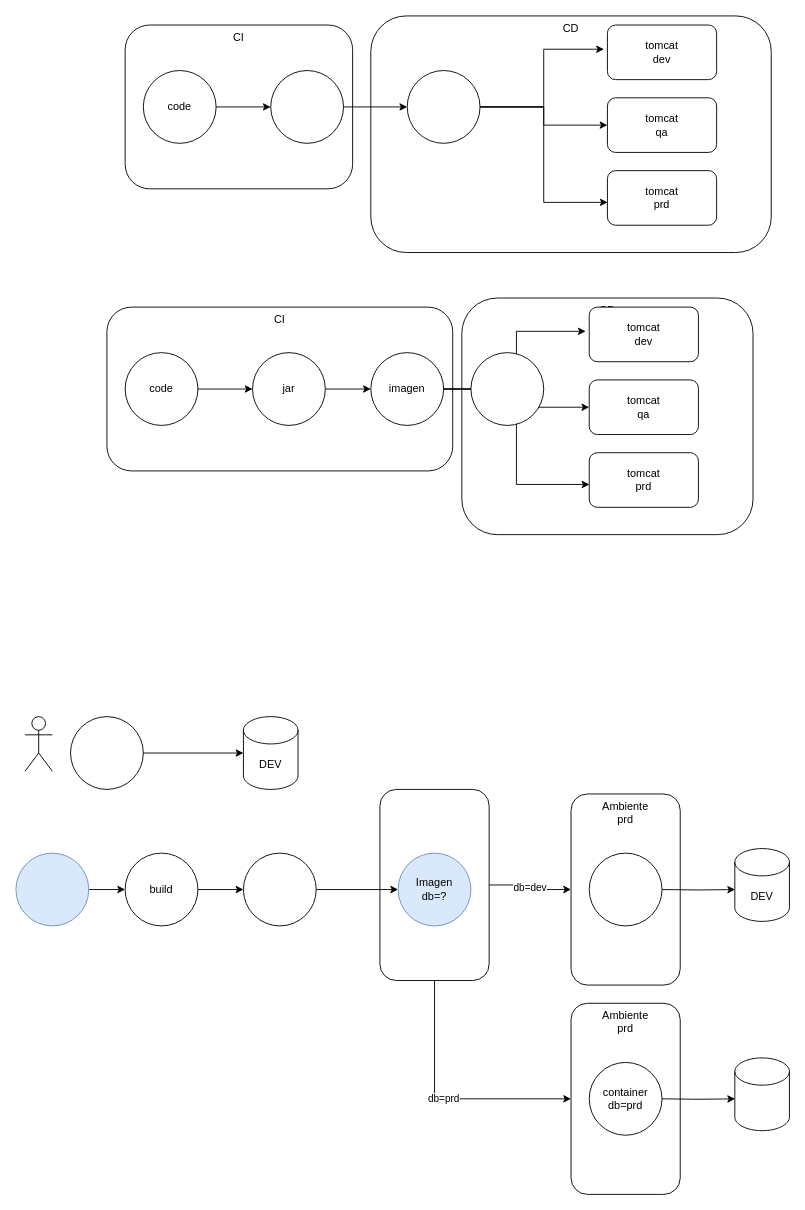
The diagram is 805 pixels wide and 1210 high, and some of its shapes have lost their labels. Here are the shapes that lost their labels. From the top down, the box of each, then its label:
(270, 70, 344, 143): war
(406, 70, 480, 143): Deployment
(470, 352, 544, 425): Deploy
(24, 716, 52, 771): Actor
(70, 716, 143, 789): code db=dev
(15, 852, 89, 926): code db=?
(243, 852, 316, 926): SAST
(379, 789, 489, 981): Registry
(588, 852, 662, 926): container db=dev
(734, 1057, 789, 1131): PRD
